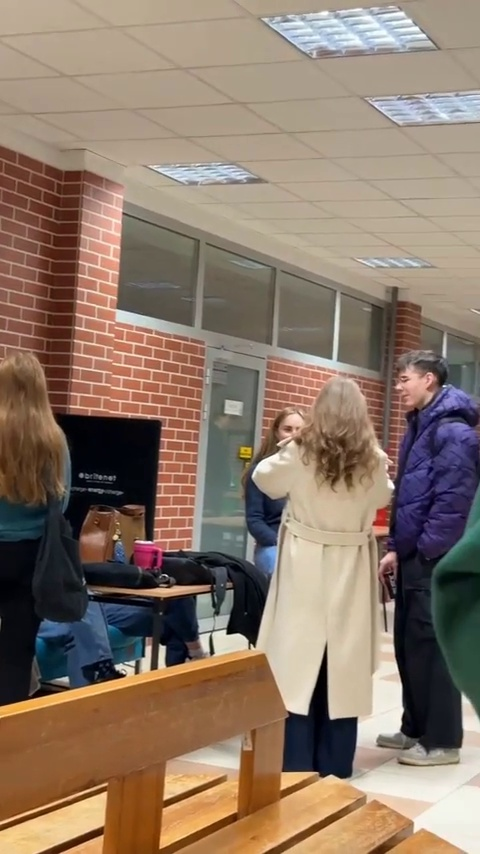no vest: (237, 375, 379, 727), (387, 346, 477, 722), (0, 351, 88, 707)
